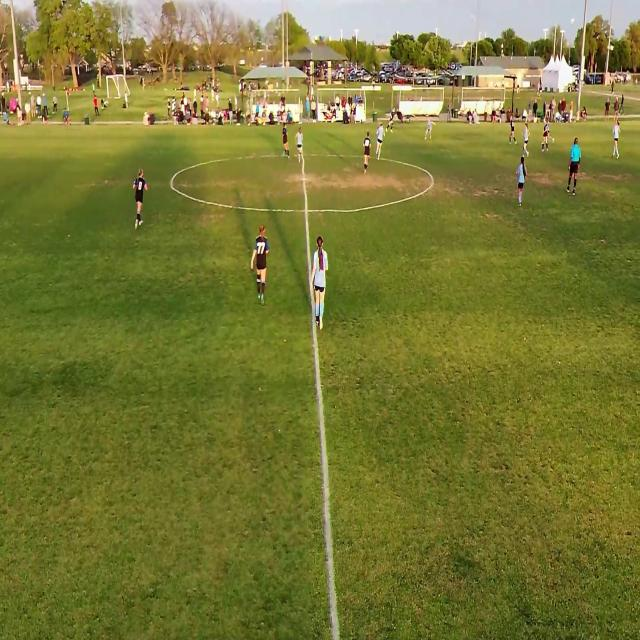team1: (254, 228, 271, 305), (133, 170, 147, 229), (364, 133, 372, 173), (281, 120, 289, 157), (386, 107, 395, 134), (510, 116, 518, 144), (543, 117, 548, 154)
team2: (311, 236, 328, 328), (517, 158, 528, 209), (375, 123, 384, 161), (614, 119, 622, 158), (298, 126, 306, 162), (548, 118, 556, 153), (522, 122, 529, 158), (424, 114, 432, 144)
